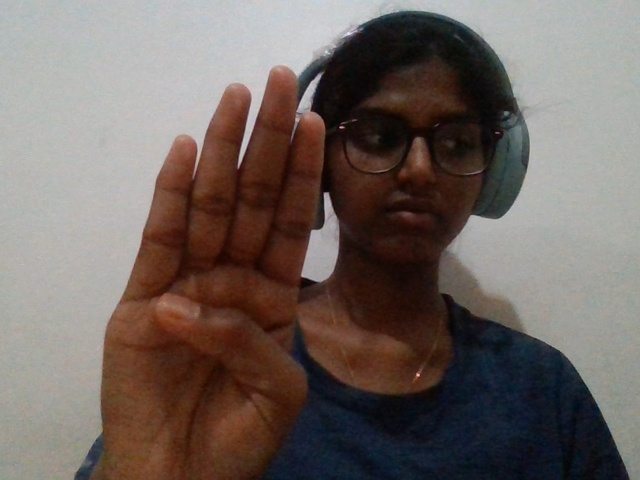B: (89, 48, 334, 480)
